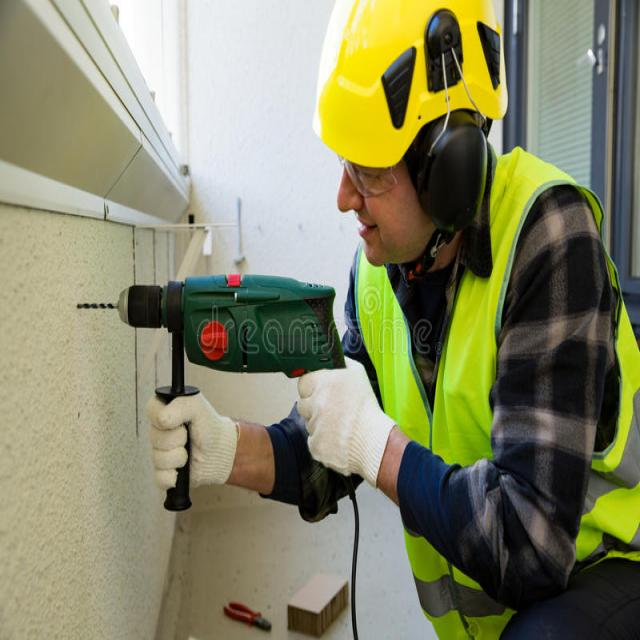Reflective-Jacket: (356, 164, 634, 626)
Safety-Helmet: (314, 4, 514, 173)
